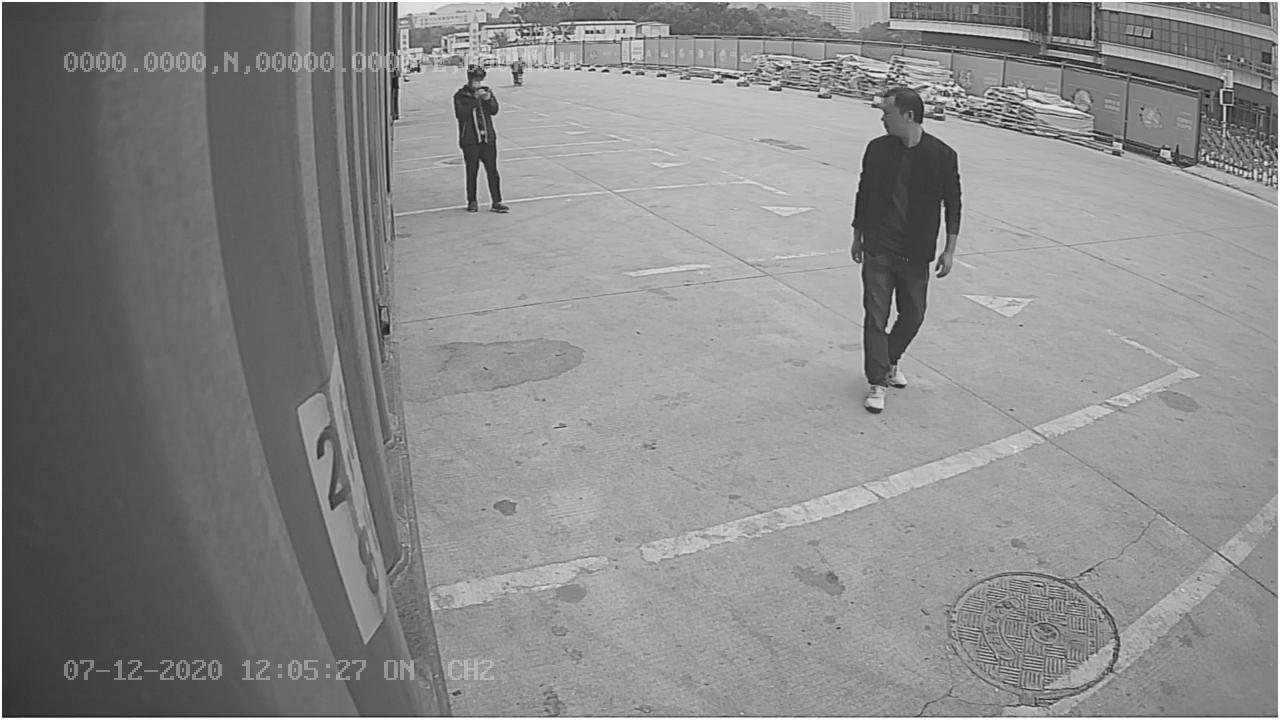person: (847, 81, 968, 423)
